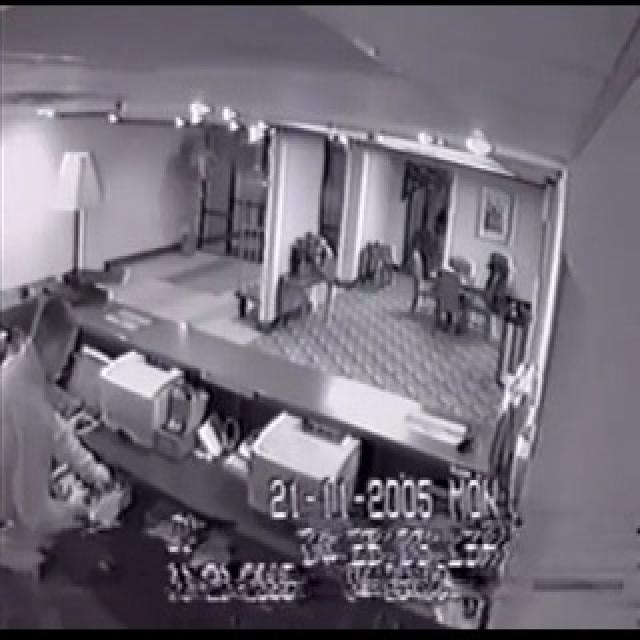thief: (0, 289, 125, 626)
